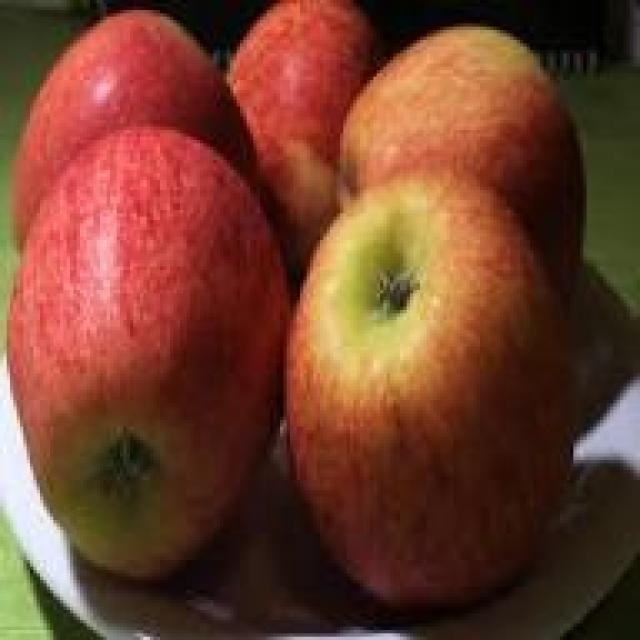apple: (300, 193, 563, 580), (13, 160, 264, 563), (333, 17, 590, 280), (30, 23, 257, 234), (227, 7, 373, 213)
